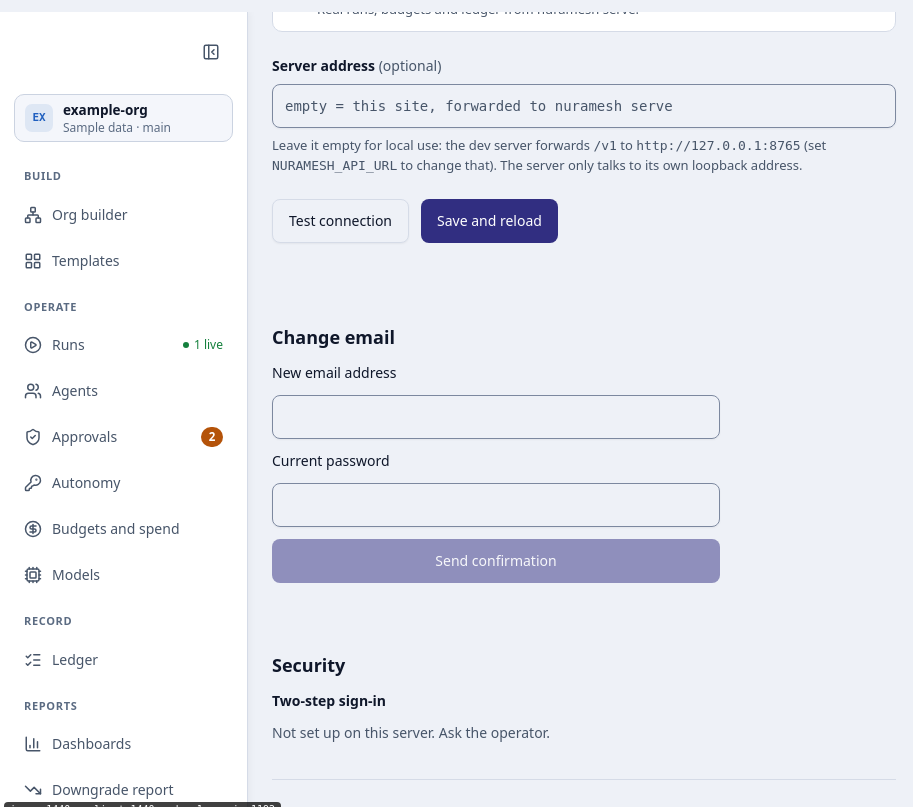
Test: A-V1: account settings, change email › a wrong password (401) and the same address (409) show a plain reason and no 'check your inbox'
(page scrolled)
Type "ada.new@example.org" into the field labelled "New email address".
click(496, 417); type("ada.new@example.org")  # box [272,395,720,439]
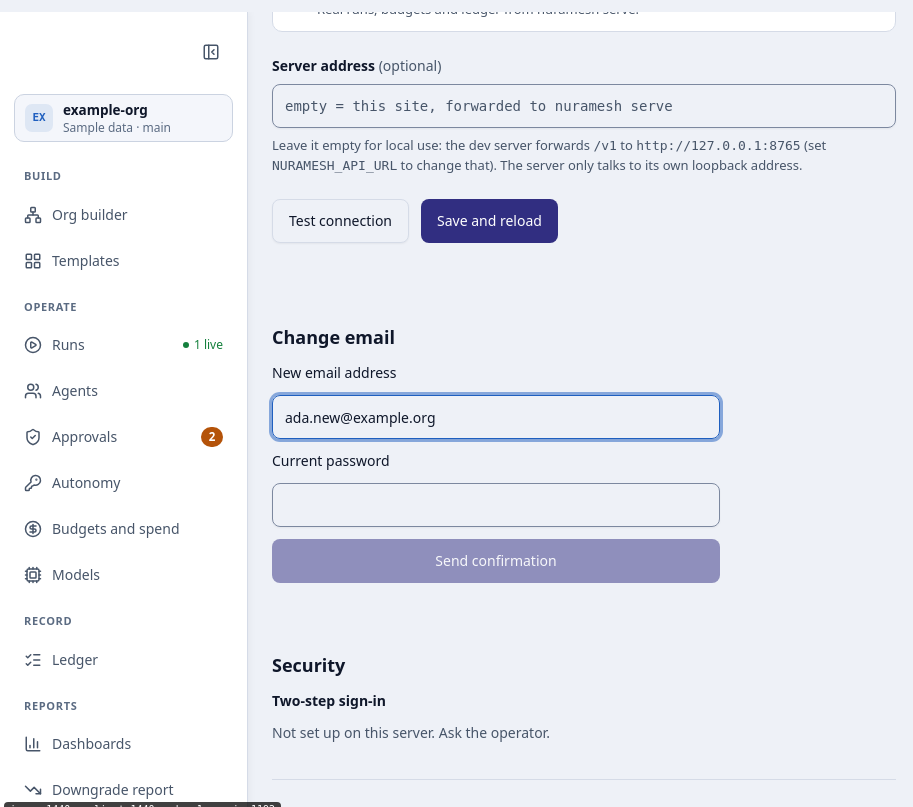
Type "obviously-fake-test-password" into the password field labelled "Current password".
click(496, 505); type("obviously-fake-test-password")  # box [272,483,720,527]
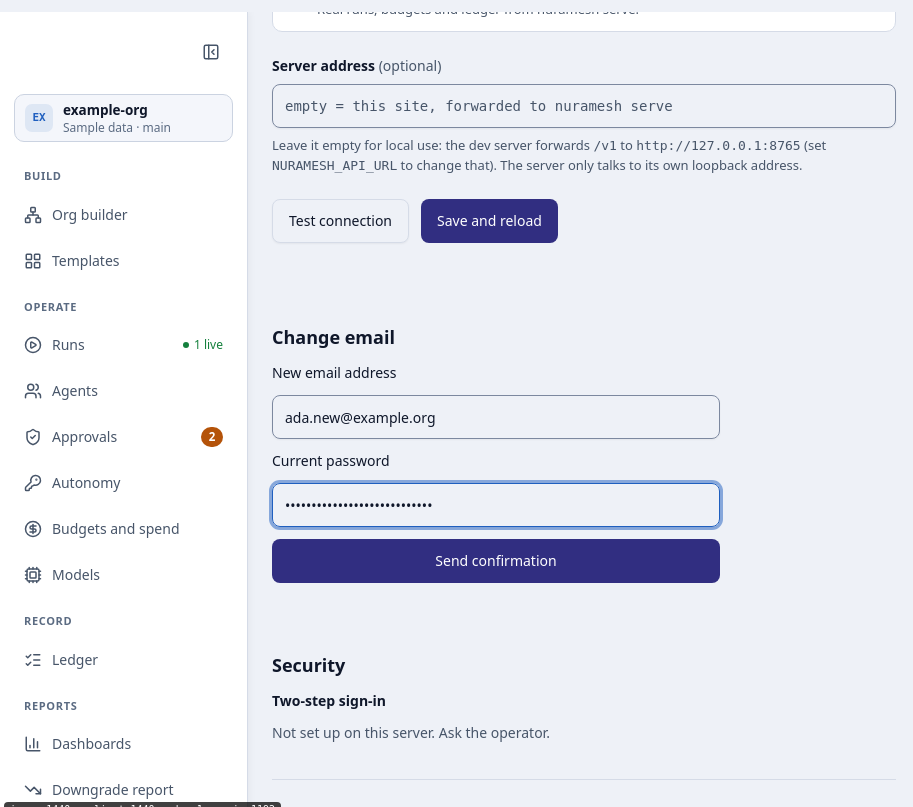
Click the button "Send confirmation".
click(496, 561)  # box [272,539,720,583]
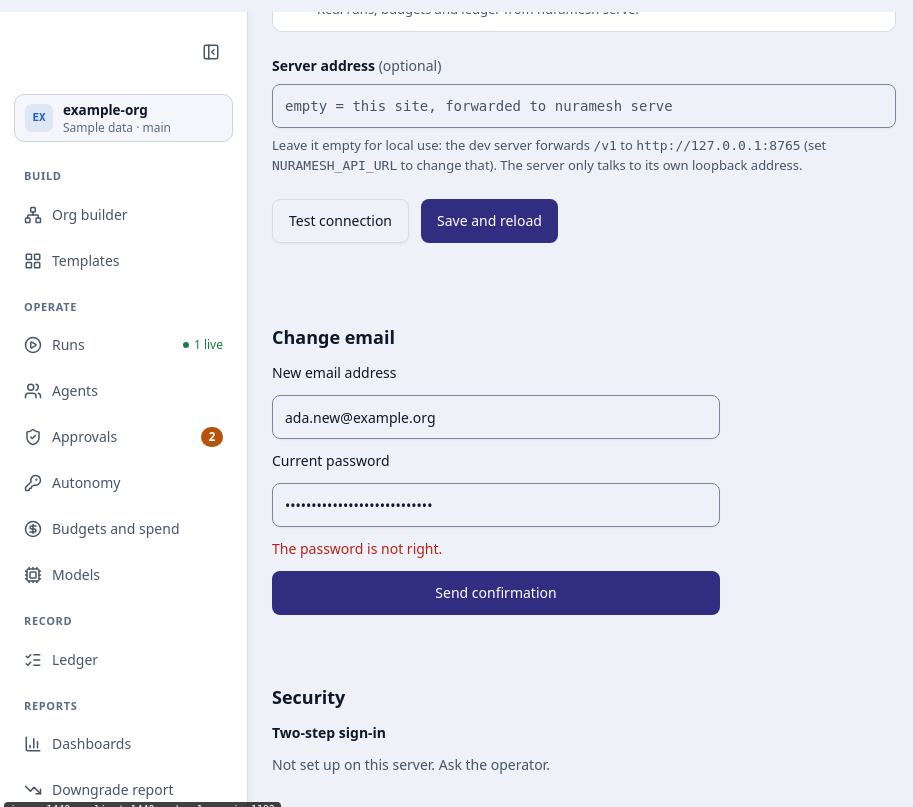
Result: the text with test id "email-change-failure" shows "password is not right" at [272,539,442,558]
Click the button "Send confirmation".
click(496, 593)  # box [272,571,720,615]
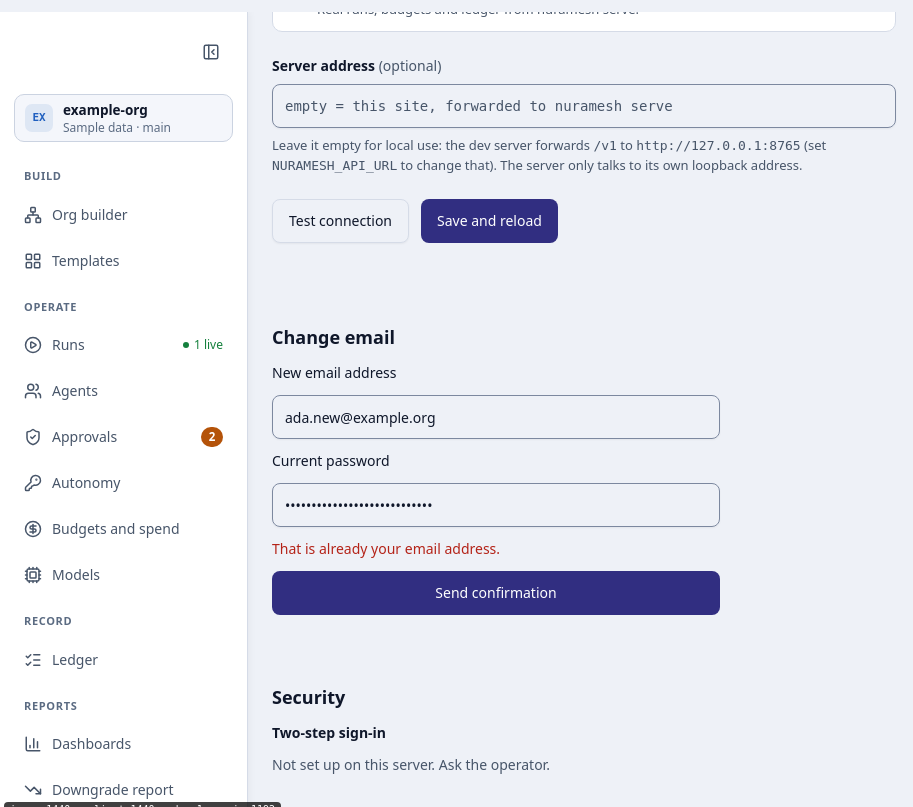
Result: the text with test id "email-change-failure" shows "already your email address" at [272,539,500,558]
